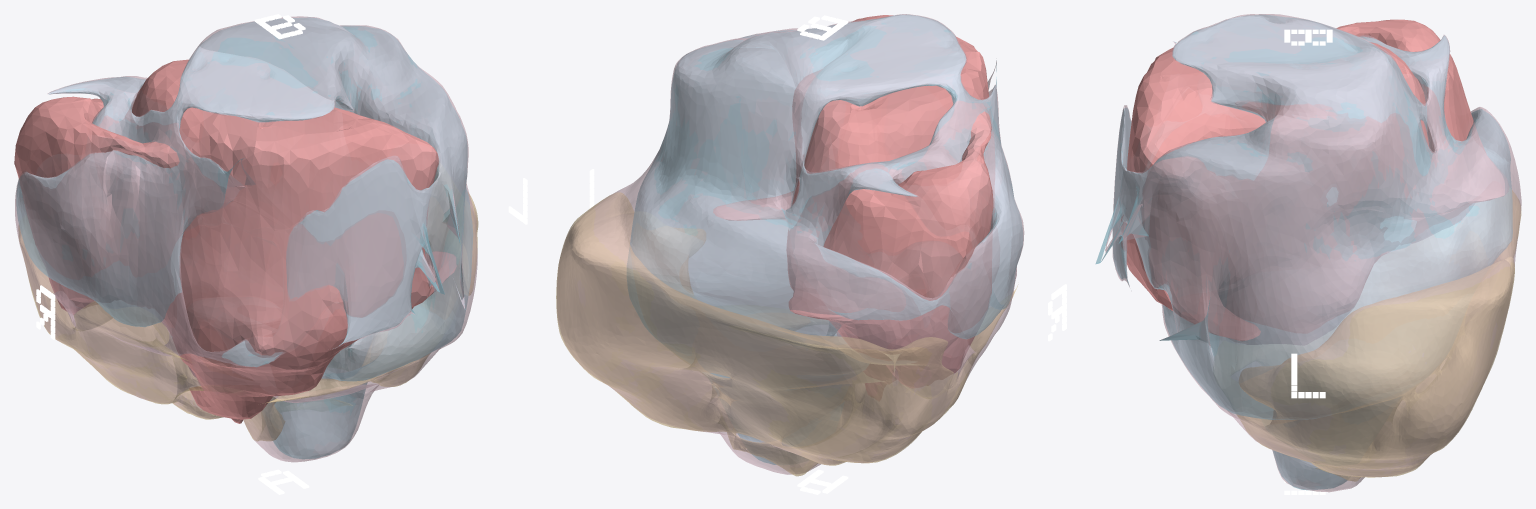
The picture shows the model from 3 angles, left to right: view 1: azimuth 30°, elevation 25°; view 2: azimuth 150°, elevation 25°; view 3: azimuth 270°, elevation 25°; orthographic projection.
Parts seen in each view (by area): view 1: prostate_gland, transition_zone, lesion_01, peripheral_zone, pv_ar_marker_B, pv_ar_marker_R; view 2: prostate_gland, transition_zone, peripheral_zone, lesion_01, pv_ar_marker_B, pv_ar_marker_R; view 3: prostate_gland, transition_zone, lesion_01, peripheral_zone, pv_ar_marker_B, pv_ar_marker_L.
Part boxes in pixels (left/top/right/bottom): prostate_gland: left=15, top=16, right=477, bottom=462; transition_zone: left=16, top=17, right=472, bottom=458; lesion_01: left=14, top=59, right=456, bottom=423; peripheral_zone: left=18, top=193, right=478, bottom=441; pv_ar_marker_B: left=254, top=14, right=305, bottom=39; pv_ar_marker_R: left=36, top=285, right=55, bottom=339; prostate_gland: left=557, top=14, right=1024, bottom=474; transition_zone: left=627, top=15, right=1022, bottom=464; peripheral_zone: left=556, top=192, right=1017, bottom=476; lesion_01: left=713, top=15, right=999, bottom=400; pv_ar_marker_B: left=797, top=15, right=848, bottom=40; pv_ar_marker_R: left=1048, top=284, right=1066, bottom=341; prostate_gland: left=1105, top=14, right=1521, bottom=492; transition_zone: left=1095, top=15, right=1512, bottom=490; lesion_01: left=1121, top=19, right=1508, bottom=344; peripheral_zone: left=1236, top=190, right=1521, bottom=481; pv_ar_marker_B: left=1284, top=29, right=1332, bottom=45; pv_ar_marker_L: left=1291, top=353, right=1325, bottom=398.
Size of the model in its own units: 0.0647 by 0.0596 by 0.0511.
